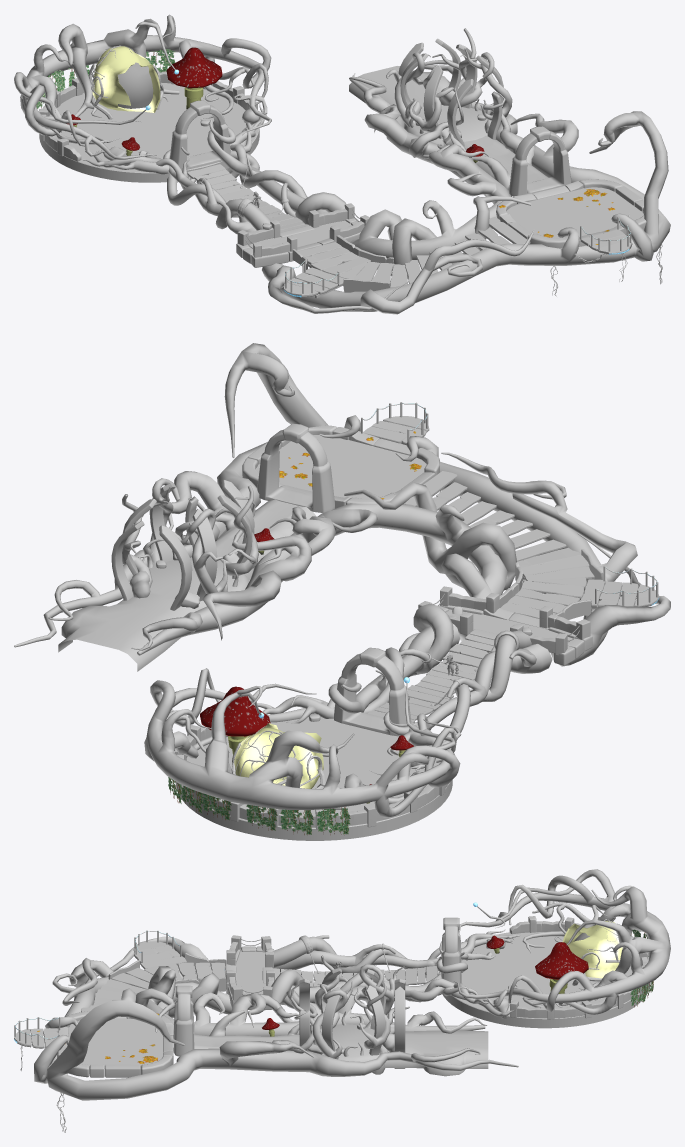
File: Salles 123.fbx
3 renders of one model, top to bottom at view 1: azimuth 30°, elevation 25°; view 2: azimuth 150°, elevation 25°; view 3: azimuth 270°, elevation 25°, orthographic. The views are drawn at different scales.
Parts seen in each view (by area): view 1: pCylinder154, polySurface4, pCylinder153, pont2_pCylinder202, polySurface1, pCube137, pCylinder82, pSphere1, pasted__pCylinder83, pasted__pCylinder81, pCylinder83, pCylinder156 (+13 smaller); view 2: pCylinder154, polySurface4, pCylinder153, pont2_pCylinder202, polySurface1, pCylinder82, pCube137, pasted__pCylinder83, pasted__pCylinder81, pCylinder83, pSphere1, pCylinder117 (+10 smaller); view 3: pCylinder154, polySurface4, pCylinder153, pont2_pCylinder202, polySurface1, pCylinder82, pCube137, pSphere1, pCylinder119, pCylinder118, pasted__pCylinder83, pCylinder156 (+11 smaller).
Boxes of the visible parts, <box> form: pCylinder154: <box>262,54,670,314</box>; polySurface4: <box>14,14,271,159</box>; pCylinder153: <box>349,73,531,278</box>; pont2_pCylinder202: <box>156,120,345,234</box>; polySurface1: <box>39,82,259,182</box>; pCube137: <box>507,187,643,237</box>; pCylinder82: <box>349,66,487,145</box>; pSphere1: <box>92,46,160,112</box>; pasted__pCylinder83: <box>509,126,571,196</box>; pasted__pCylinder81: <box>169,100,230,170</box>; pCylinder83: <box>449,132,548,196</box>; pCylinder156: <box>166,47,222,109</box>; pCylinder154: <box>14,343,670,666</box>; polySurface4: <box>144,668,461,817</box>; pCylinder153: <box>131,482,516,655</box>; pont2_pCylinder202: <box>327,603,552,741</box>; polySurface1: <box>176,717,452,840</box>; pCylinder82: <box>58,557,249,671</box>; pCube137: <box>255,434,426,498</box>; pasted__pCylinder83: <box>257,423,334,512</box>; pasted__pCylinder81: <box>334,647,411,736</box>; pCylinder83: <box>202,499,316,580</box>; pSphere1: <box>234,723,323,788</box>; pCylinder117: <box>186,508,227,601</box>; pCylinder154: <box>34,936,518,1100</box>; polySurface4: <box>454,869,670,1014</box>; pCylinder153: <box>136,966,487,1038</box>; pont2_pCylinder202: <box>271,935,468,1009</box>; polySurface1: <box>439,932,650,1028</box>; pCylinder82: <box>310,1024,488,1076</box>; pCube137: <box>68,1018,163,1068</box>; pSphere1: <box>562,921,622,978</box>; pCylinder119: <box>354,985,409,1074</box>; pCylinder118: <box>313,980,352,1059</box>; pasted__pCylinder83: <box>173,985,194,1056</box>; pCylinder156: <box>535,942,588,993</box>.
Bounding box in the file's own units: 41.49 × 14.41 × 61.18.
